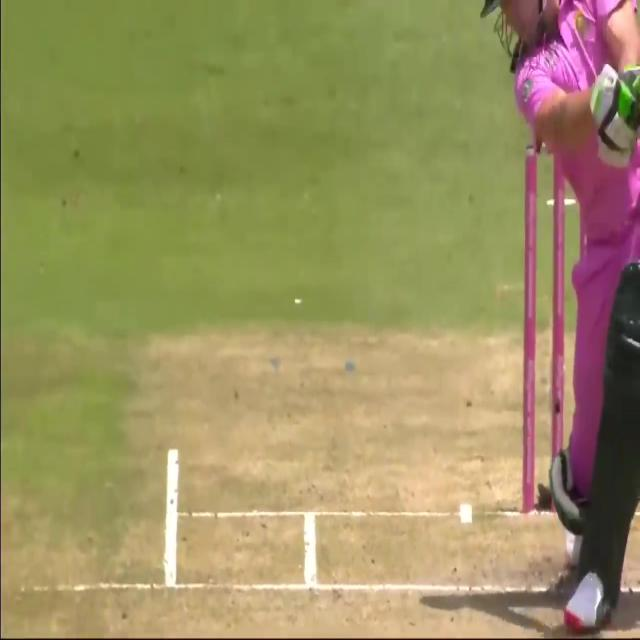Ball: (478, 2, 640, 636)
